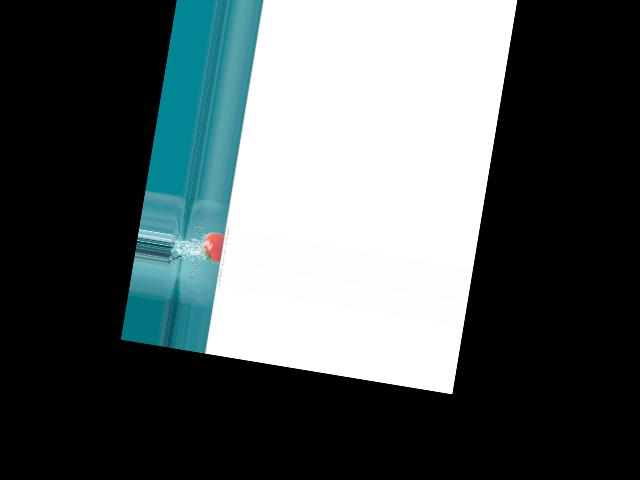tomato: (201, 231, 225, 263)
